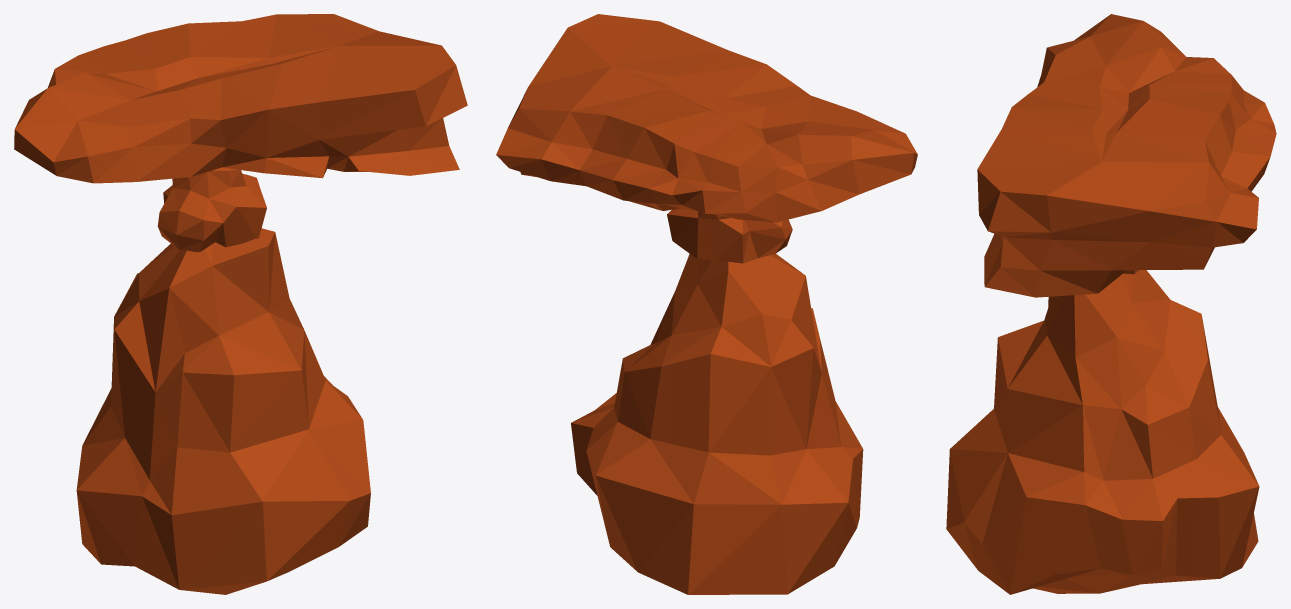
The model's file is Stone_big_9.fbx.
3 views of the same model, side by side, from view 1: azimuth 30°, elevation 25°; view 2: azimuth 150°, elevation 25°; view 3: azimuth 270°, elevation 25° (orthographic). The views are drawn at different scales.
Parts seen in each view (by area): view 1: Stone_desert_big_008; view 2: Stone_desert_big_008; view 3: Stone_desert_big_008.
Part boxes in pixels (x1=…): Stone_desert_big_008: x1=14, y1=14, x2=467, y2=594; Stone_desert_big_008: x1=496, y1=14, x2=917, y2=594; Stone_desert_big_008: x1=946, y1=14, x2=1276, y2=594.
Bounding box in the file's own units: 954 × 1173 × 691.
1 material, 1 textured.
